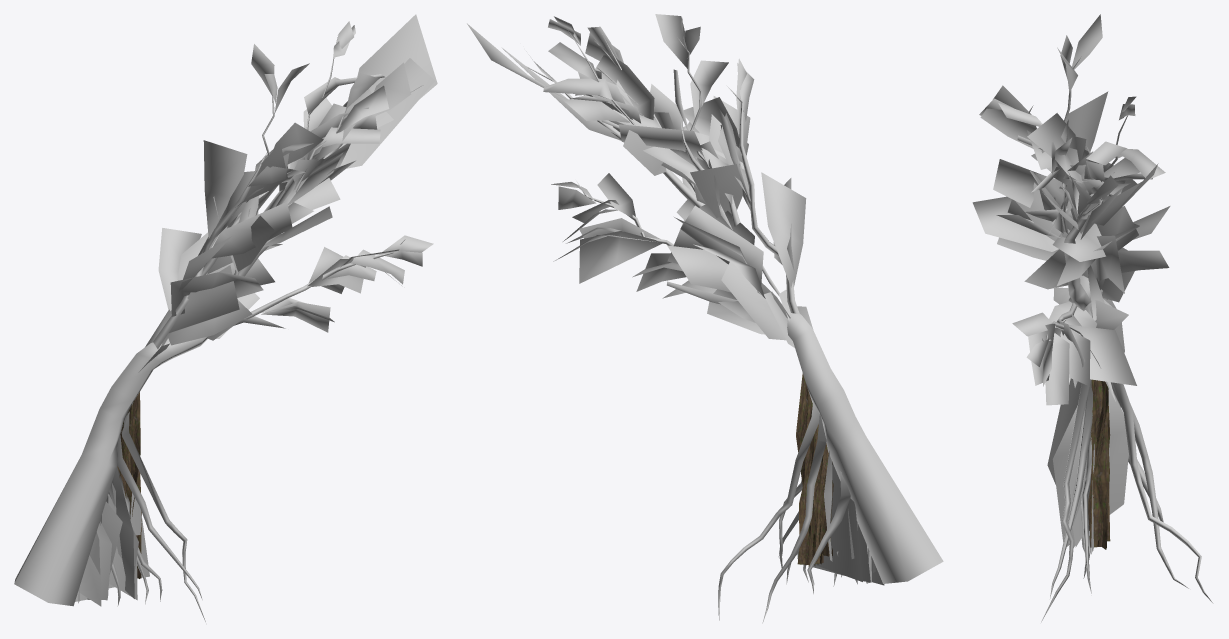
The model's file is Tree_05_2_L4.fbx.
3 views of the same model, side by side, from view 1: azimuth 30°, elevation 25°; view 2: azimuth 150°, elevation 25°; view 3: azimuth 270°, elevation 25° (orthographic). The views are drawn at different scales.
Parts seen in each view (by area): view 1: polySurface2344; view 2: polySurface2344; view 3: polySurface2344.
Part boxes in pixels (left/top/right/bottom): polySurface2344: left=14, top=14, right=437, bottom=621; polySurface2344: left=467, top=14, right=943, bottom=623; polySurface2344: left=972, top=14, right=1213, bottom=622.
Size of the model in its own units: 1026 by 1234 by 414.
